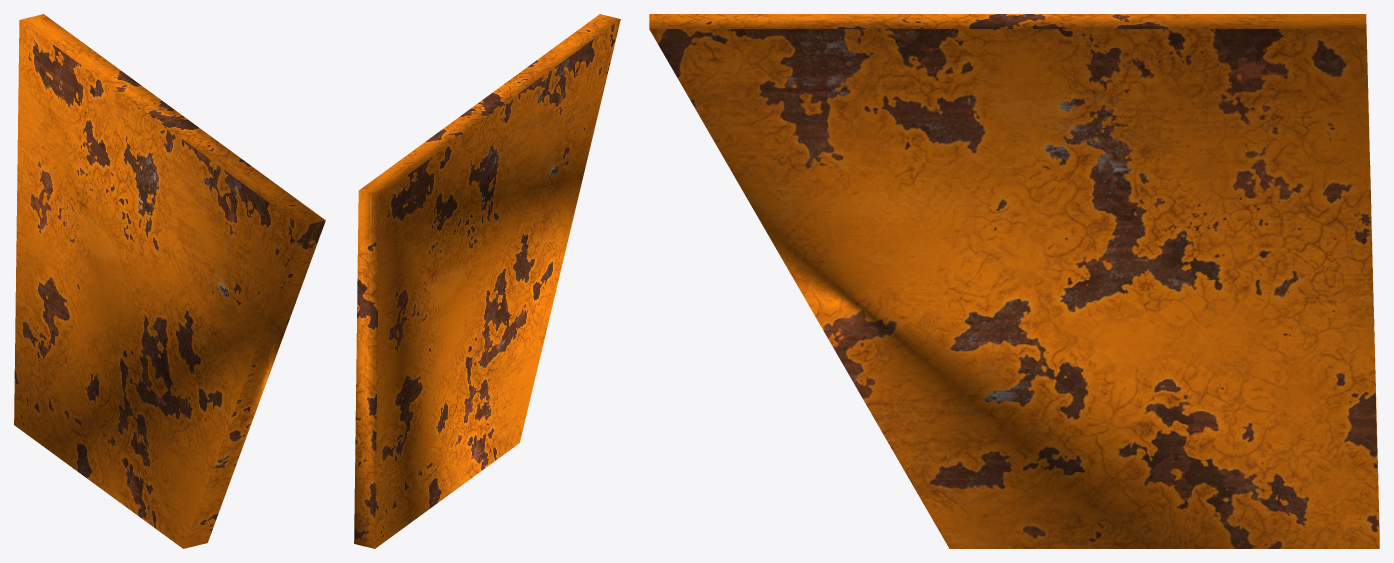
The model's file is Rocket_Fin_Left.glb.
The picture shows the model from 3 angles, left to right: view 1: azimuth 30°, elevation 25°; view 2: azimuth 150°, elevation 25°; view 3: azimuth 270°, elevation 25°; orthographic projection. The views are drawn at different scales.
Visible parts, largest first — view 1: Fin_Left; view 2: Fin_Left; view 3: Fin_Left.
Boxes of the visible parts, x1,y1,x2,y2 form: Fin_Left: [14, 14, 325, 548]; Fin_Left: [354, 14, 620, 548]; Fin_Left: [649, 14, 1379, 548].
Bounding box in the file's own units: 0.127 × 2.03 × 2.59.
1 material, 1 textured.
